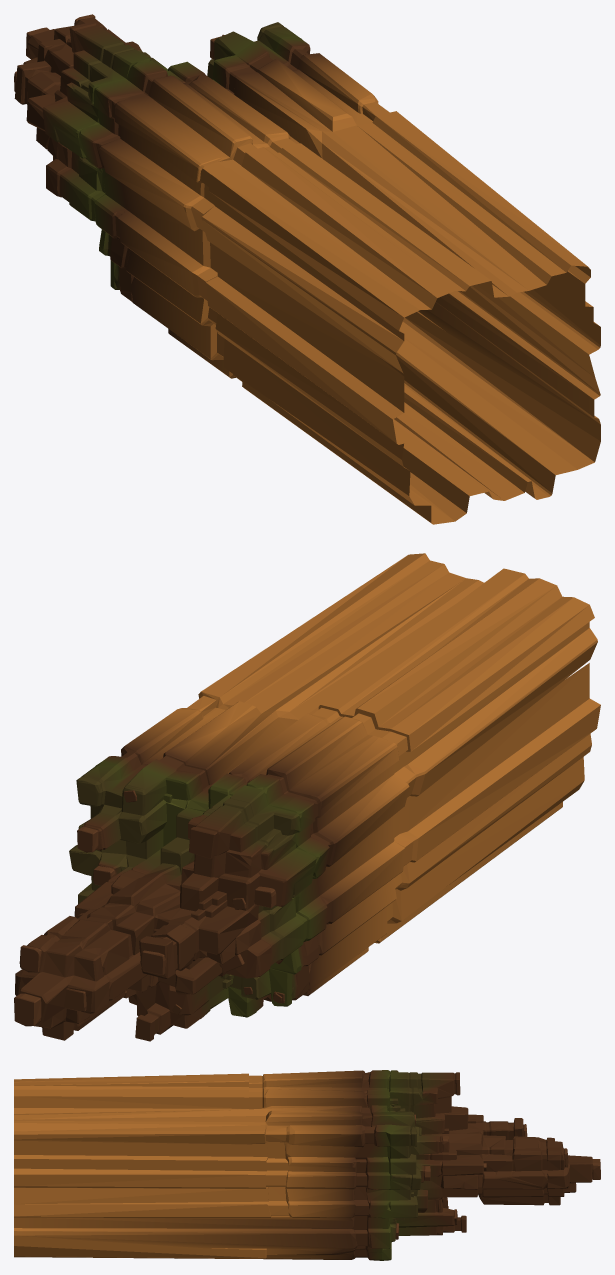
The model's file is RayeredRockAa.fbx.
3 renders of one model, top to bottom at view 1: azimuth 30°, elevation 25°; view 2: azimuth 150°, elevation 25°; view 3: azimuth 270°, elevation 25°, orthographic. The views are drawn at different scales.
Visible parts, largest first — view 1: w5a02_s40_RayeredRockAa__i0000; view 2: w5a02_s40_RayeredRockAa__i0000; view 3: w5a02_s40_RayeredRockAa__i0000.
Part boxes in pixels (left/top/right/bottom): w5a02_s40_RayeredRockAa__i0000: left=14, top=14, right=600, bottom=524; w5a02_s40_RayeredRockAa__i0000: left=14, top=553, right=600, bottom=1041; w5a02_s40_RayeredRockAa__i0000: left=14, top=1070, right=600, bottom=1260.
Size of the model in its own units: 58.37 by 208 by 58.98.
